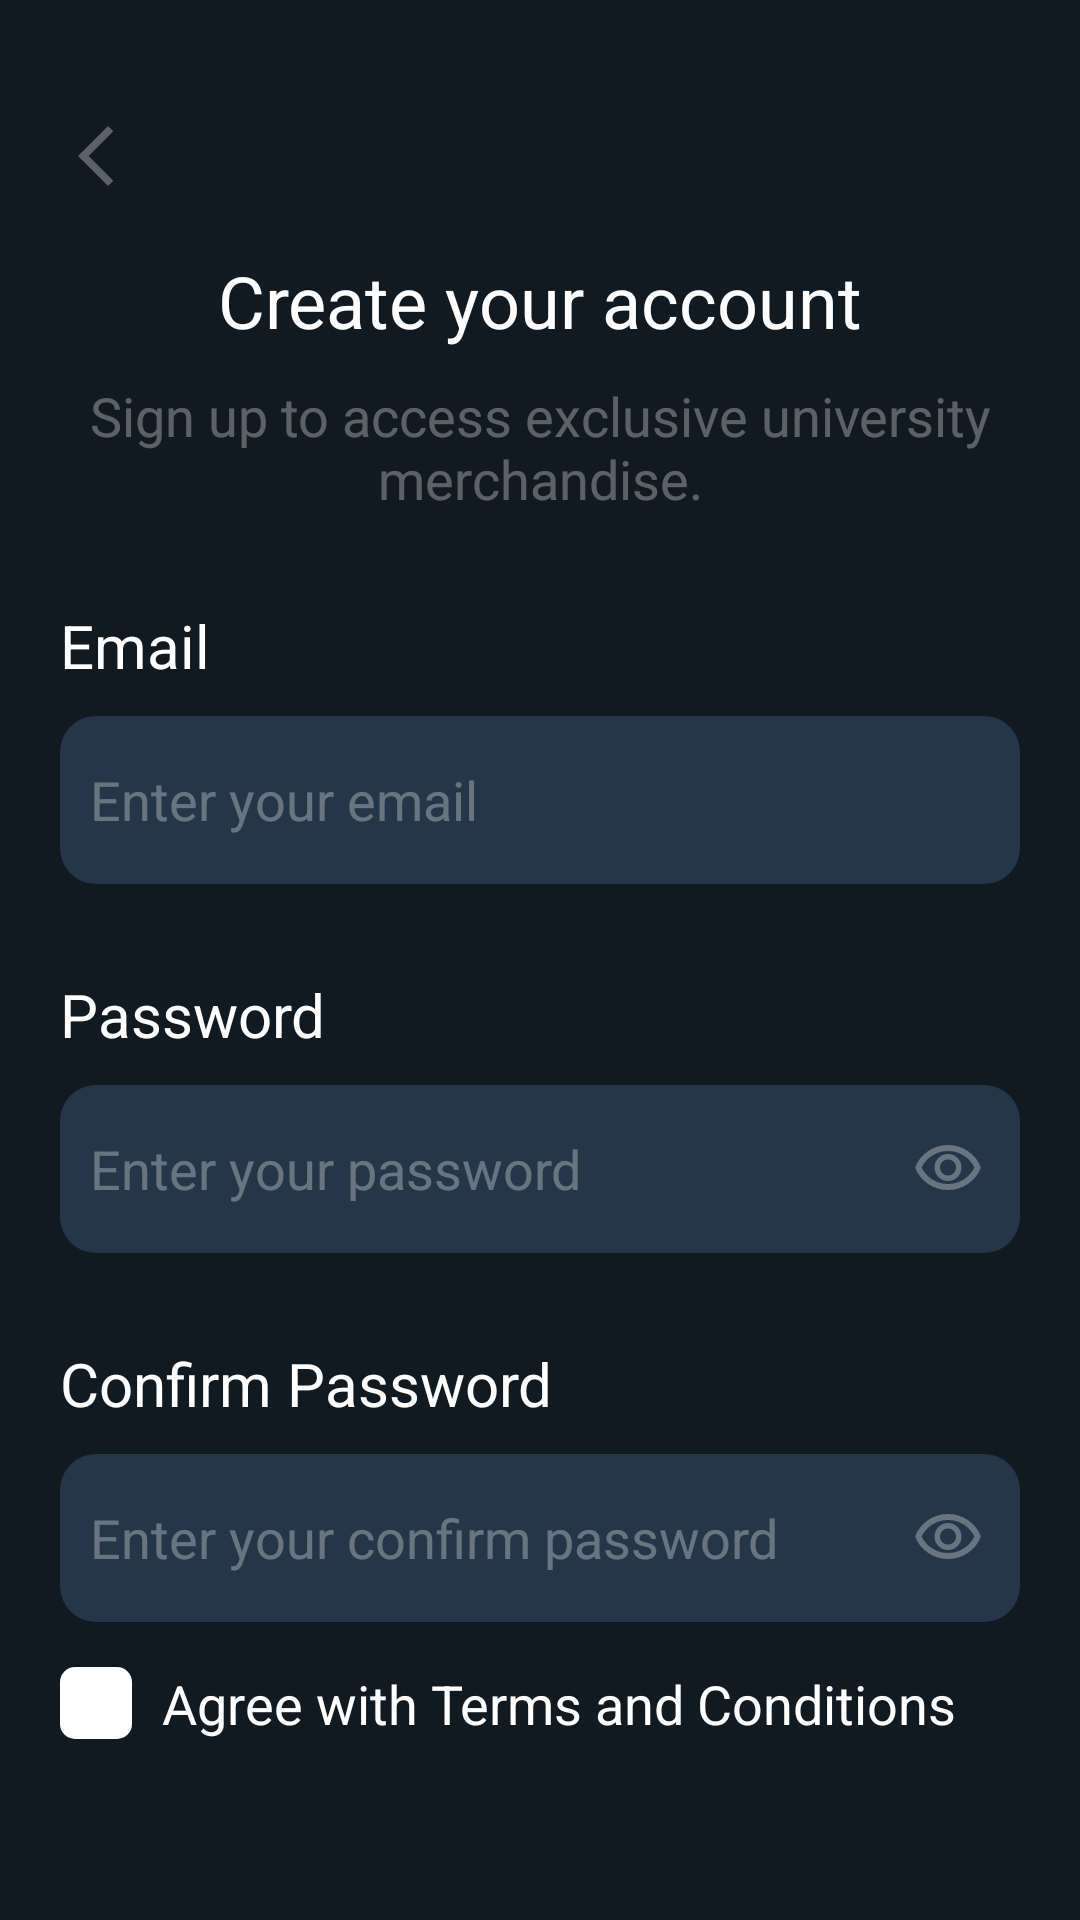

Icons on this 1080 × 1920 Android screen, each with the point to tap as [x,y]:
arrow back: [95,156]
uncheck: [96,1703]
